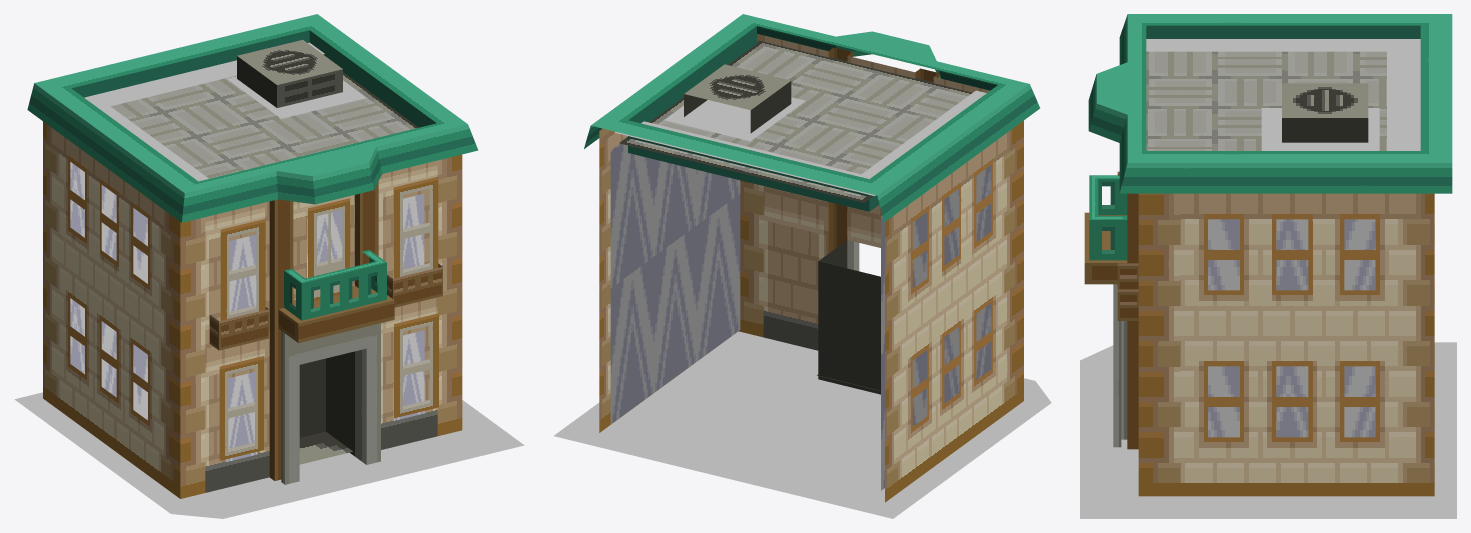
Rendered from c12_house_01.dae.
The picture shows the model from 3 angles, left to right: view 1: azimuth 30°, elevation 25°; view 2: azimuth 150°, elevation 25°; view 3: azimuth 270°, elevation 25°; orthographic projection. The views are drawn at different scales.
Parts seen in each view (by area): view 1: c12_house_01; view 2: c12_house_01; view 3: c12_house_01.
Boxes of the visible parts, bbox=[...] form: c12_house_01: bbox=[14, 14, 524, 518]; c12_house_01: bbox=[554, 14, 1051, 518]; c12_house_01: bbox=[1080, 14, 1456, 518].
Bounding box in the file's own units: 90.47 × 84.8 × 81.63.
